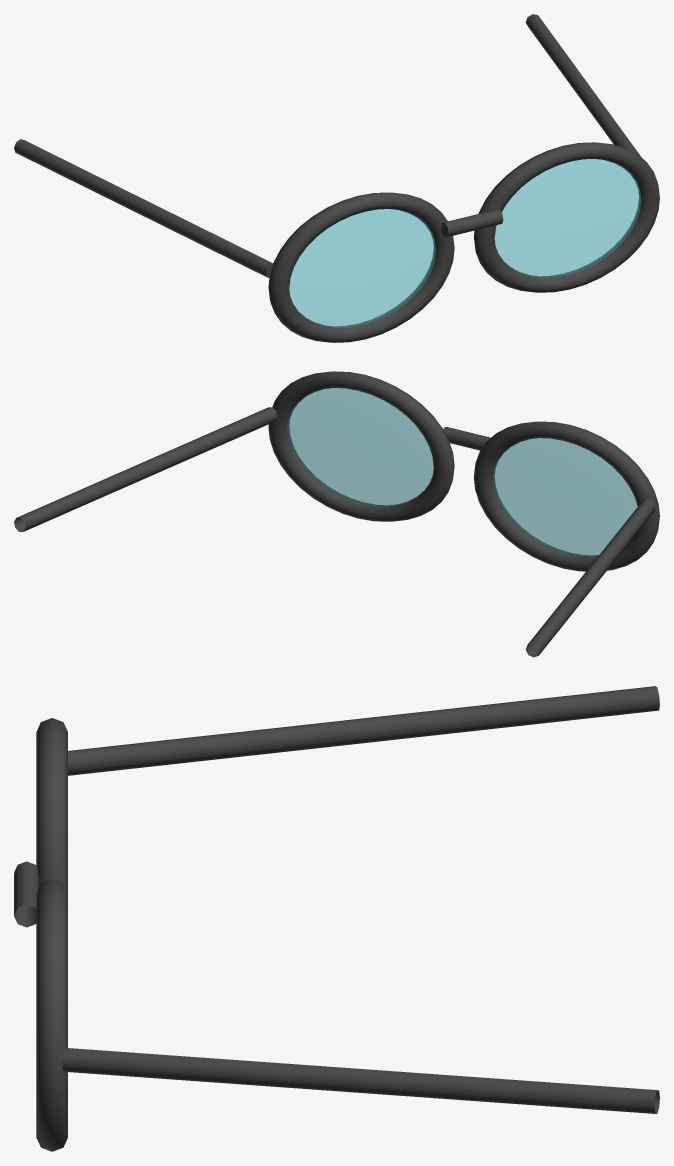
File: glasses.glb
3 views of the same model, one above another, from view 1: azimuth 30°, elevation 25°; view 2: azimuth 150°, elevation 25°; view 3: azimuth 270°, elevation 25° (orthographic). The views are drawn at different scales.
Visible parts, largest first — view 1: lenses, frame; view 2: frame, lenses; view 3: frame.
Part boxes in pixels (x1,y1,x2,y2): lenses: (289, 159, 640, 327); frame: (14, 14, 659, 342); frame: (14, 371, 659, 657); lenses: (287, 388, 637, 556); frame: (14, 686, 659, 1151).
Bounding box in the file's own units: 1.54 × 0.3995 × 1.01.
